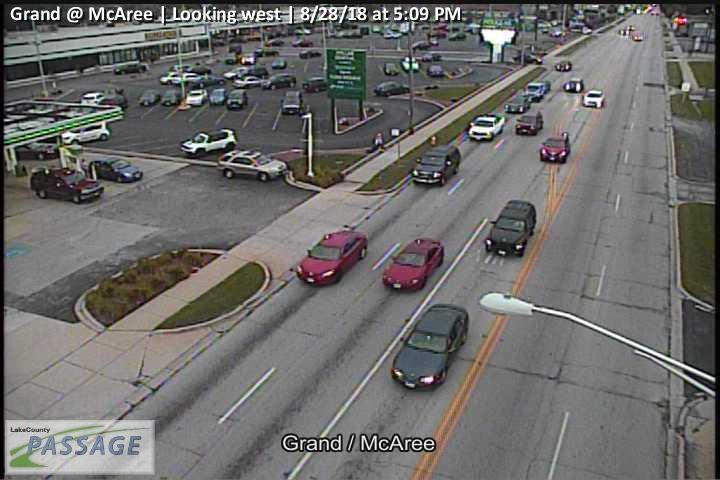SUV: (485, 200, 537, 258), (30, 167, 103, 204), (411, 142, 462, 187), (179, 128, 236, 159), (61, 119, 110, 143), (514, 111, 543, 136), (262, 74, 297, 91), (226, 88, 248, 110), (170, 73, 201, 88), (302, 77, 330, 93), (80, 91, 104, 106), (563, 77, 584, 93), (401, 56, 420, 72)
Sedan: (389, 303, 468, 390), (297, 229, 368, 286), (382, 238, 444, 292), (216, 149, 289, 182), (88, 156, 143, 183), (539, 136, 570, 166), (373, 81, 410, 97), (503, 95, 531, 114), (190, 74, 226, 88), (112, 61, 148, 75), (99, 93, 128, 110), (582, 89, 605, 108), (232, 74, 263, 88), (137, 88, 160, 106), (186, 88, 207, 107), (160, 88, 182, 106), (208, 88, 226, 104), (383, 63, 400, 76), (299, 49, 321, 59), (428, 63, 444, 76), (555, 61, 572, 72), (271, 58, 286, 69)
Truck: (466, 114, 505, 143), (524, 79, 551, 103), (280, 89, 303, 114)
